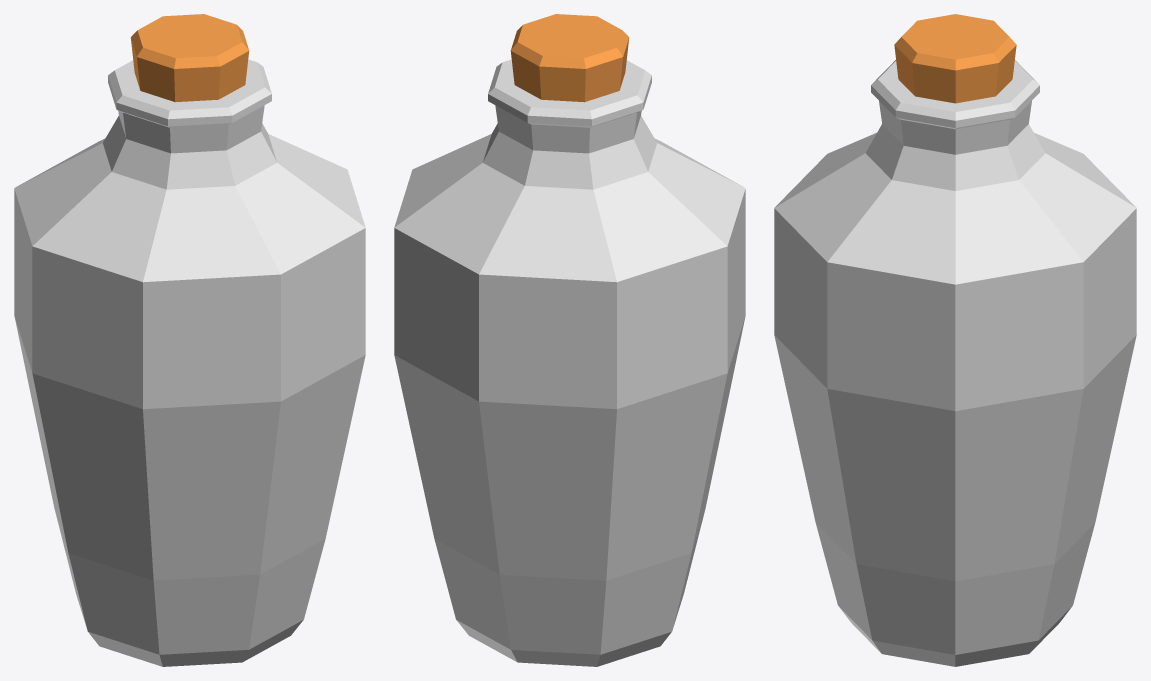
The model's file is Potion3.fbx.
3 views of the same model, side by side, from view 1: azimuth 30°, elevation 25°; view 2: azimuth 150°, elevation 25°; view 3: azimuth 270°, elevation 25° (orthographic).
Visible parts, largest first — view 1: Flask, Cork; view 2: Flask, Cork; view 3: Flask, Cork.
Boxes of the visible parts, left/top/right/bottom form: Flask: left=14, top=59, right=365, bottom=666; Cork: left=130, top=14, right=249, bottom=102; Flask: left=394, top=59, right=745, bottom=666; Cork: left=510, top=14, right=629, bottom=102; Flask: left=774, top=60, right=1136, bottom=666; Cork: left=894, top=14, right=1016, bottom=103.
Bounding box in the file's own units: 273 × 488 × 273.
